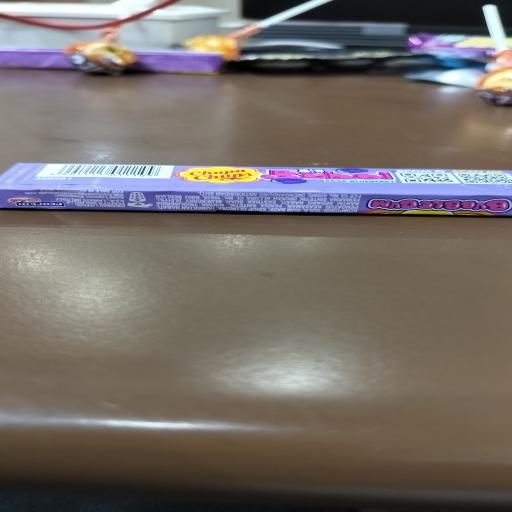chocolate: (0, 158, 512, 219)
chupa-chups: (175, 162, 262, 187)
